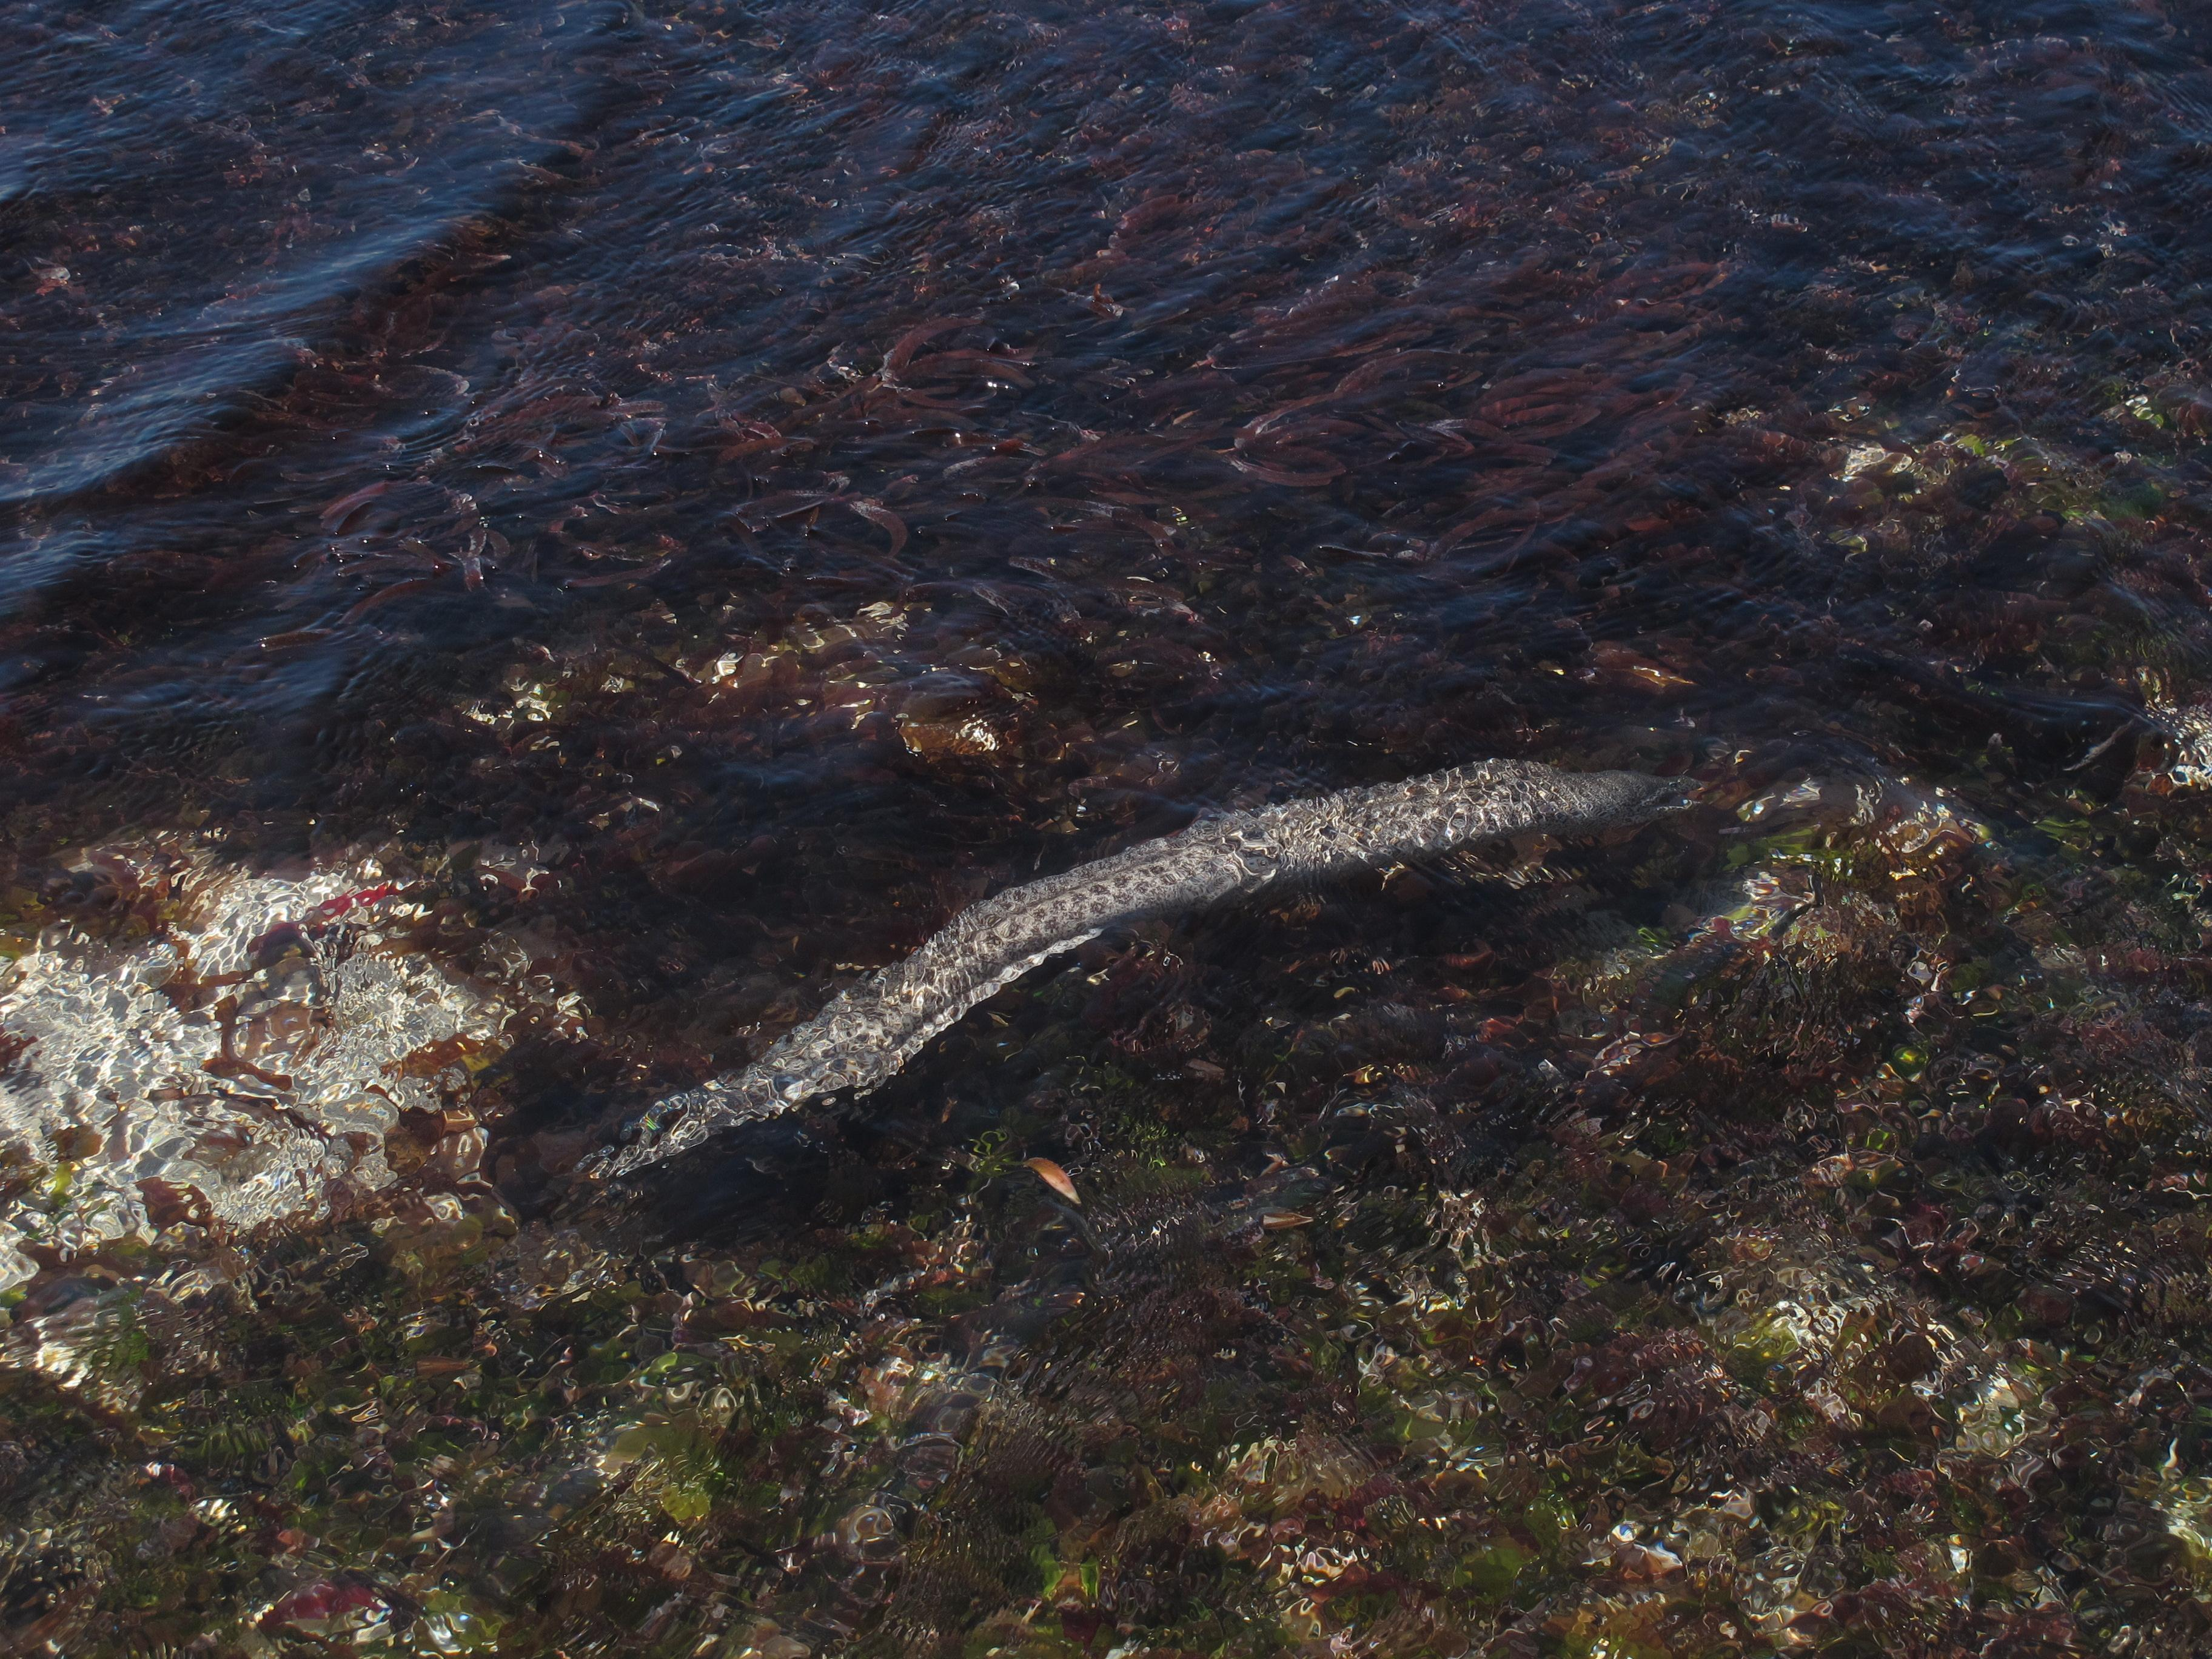Fish: (568, 744, 1714, 1253)
